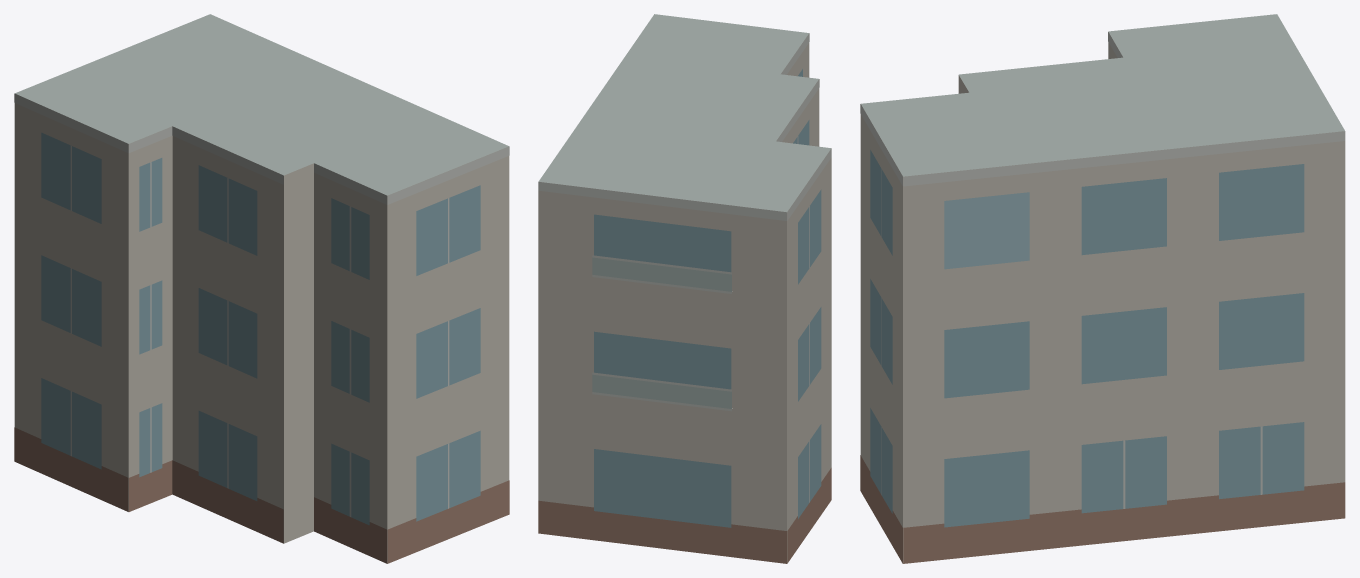
File: survey-upis-32690557.glb
The picture shows the model from 3 angles, left to right: view 1: azimuth 30°, elevation 25°; view 2: azimuth 150°, elevation 25°; view 3: azimuth 270°, elevation 25°; orthographic projection. The views are drawn at different scales.
Visible parts, largest first — view 1: survey-upis-32690557.tmp; view 2: survey-upis-32690557.tmp; view 3: survey-upis-32690557.tmp.
Boxes of the visible parts, <box> form: survey-upis-32690557.tmp: <box>14,14,509,563</box>; survey-upis-32690557.tmp: <box>538,14,831,563</box>; survey-upis-32690557.tmp: <box>860,14,1345,563</box>.
Bounding box in the file's own units: 8.66 × 9.6 × 10.9.
